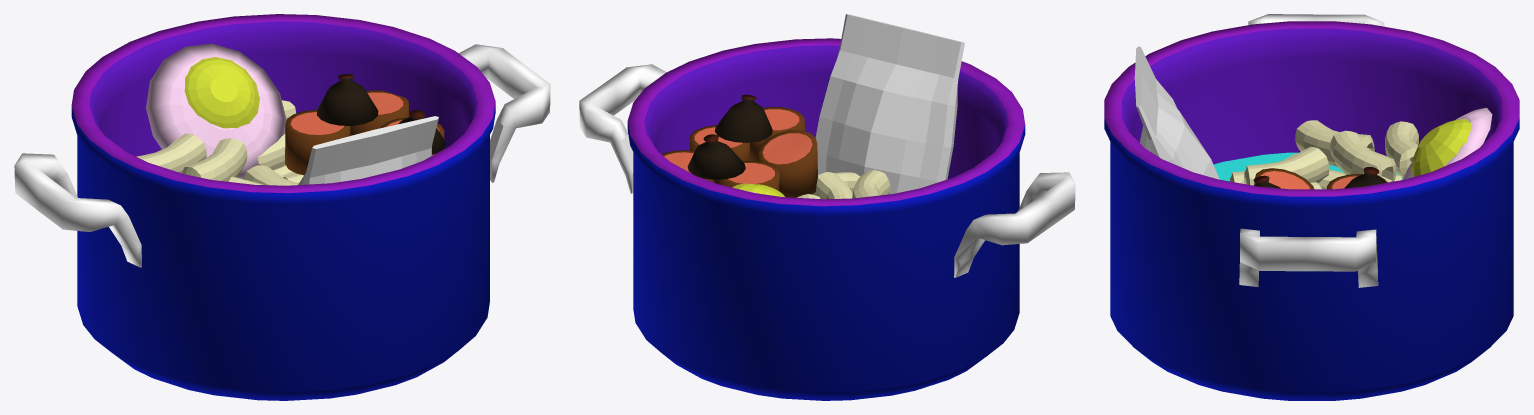
File: potted_mac.fbx
3 renders of one model, left to right at view 1: azimuth 30°, elevation 25°; view 2: azimuth 150°, elevation 25°; view 3: azimuth 270°, elevation 25°, orthographic. The views are drawn at different scales.
Parts seen in each view (by area): view 1: Pot, Handles, Egg, cheesepack, cooked noodles, Egg.001, HotdogSlice.003, HotdogSlice.005, HotdogSlice.002; view 2: Pot, cheesepack, Handles, HotdogSLice.004, cooked noodles, HotdogSlice.006, HotdogSlice.005, HotdogSlice, HotdogSlice.003, HotdogSlice.001, HotdogSlice.002; view 3: Pot, Handles, cooked noodles, cheesepack, Egg.001, Egg, Water, HotdogSLice.004, HotdogSlice.005.
Part boxes in pixels (left/top/right/bottom): Pot: left=71, top=14, right=495, bottom=400; Handles: left=14, top=44, right=550, bottom=267; Egg: left=146, top=43, right=286, bottom=178; cheesepack: left=298, top=116, right=438, bottom=184; cooked noodles: left=136, top=100, right=298, bottom=185; Egg.001: left=184, top=57, right=259, bottom=128; HotdogSlice.003: left=285, top=110, right=350, bottom=175; HotdogSlice.005: left=316, top=74, right=378, bottom=125; HotdogSlice.002: left=350, top=90, right=408, bottom=135; Pot: left=627, top=38, right=1025, bottom=400; cheesepack: left=815, top=14, right=964, bottom=194; Handles: left=579, top=64, right=1075, bottom=277; HotdogSLice.004: left=758, top=130, right=817, bottom=197; cooked noodles: left=797, top=170, right=890, bottom=199; HotdogSlice.006: left=714, top=94, right=772, bottom=142; HotdogSlice.005: left=687, top=134, right=745, bottom=179; HotdogSlice: left=749, top=107, right=805, bottom=161; HotdogSlice.003: left=719, top=161, right=779, bottom=190; HotdogSlice.001: left=690, top=125, right=749, bottom=184; HotdogSlice.002: left=662, top=150, right=714, bottom=182; Pot: left=1104, top=21, right=1519, bottom=400; Handles: left=1239, top=14, right=1384, bottom=287; cooked noodles: left=1230, top=120, right=1418, bottom=189; cheesepack: left=1134, top=46, right=1219, bottom=179; Egg.001: left=1411, top=119, right=1470, bottom=176; Egg: left=1402, top=107, right=1492, bottom=179; Water: left=1213, top=152, right=1403, bottom=181; HotdogSLice.004: left=1254, top=168, right=1314, bottom=189; HotdogSlice.005: left=1344, top=167, right=1386, bottom=188.
Bounding box in the file's own units: 83.61 × 41.92 × 62.94.
